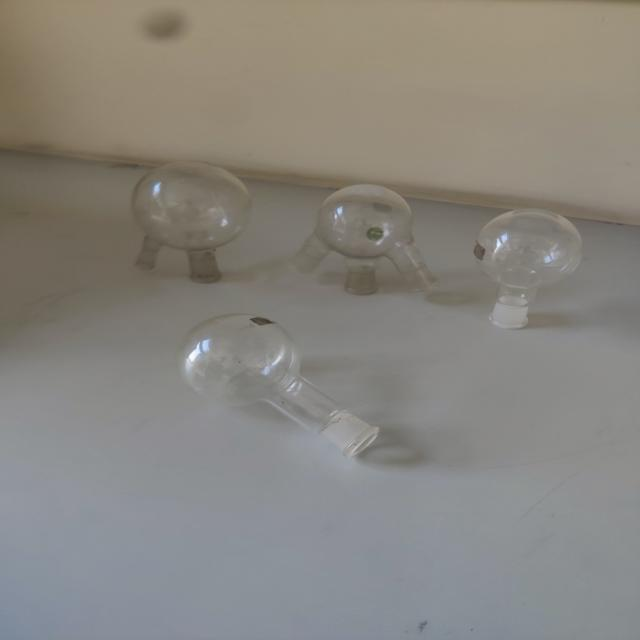Round_Bottom_Flask_Borosilicate_Glass_1_Neck: (167, 312, 408, 478), (444, 182, 606, 338)
Round_Bottom_Flask_Borosilicate_Glass_2_Neck: (90, 144, 280, 300)
Round_Bottom_Flask_Borosilicate_Glass_3_Neck: (274, 165, 466, 311)
